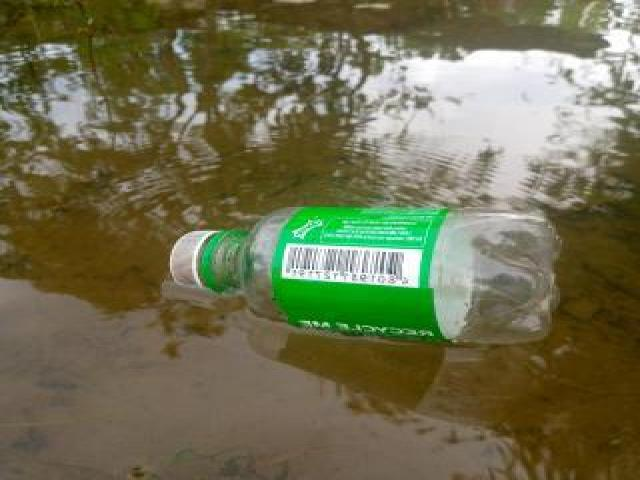Bottle: (156, 198, 570, 350)
